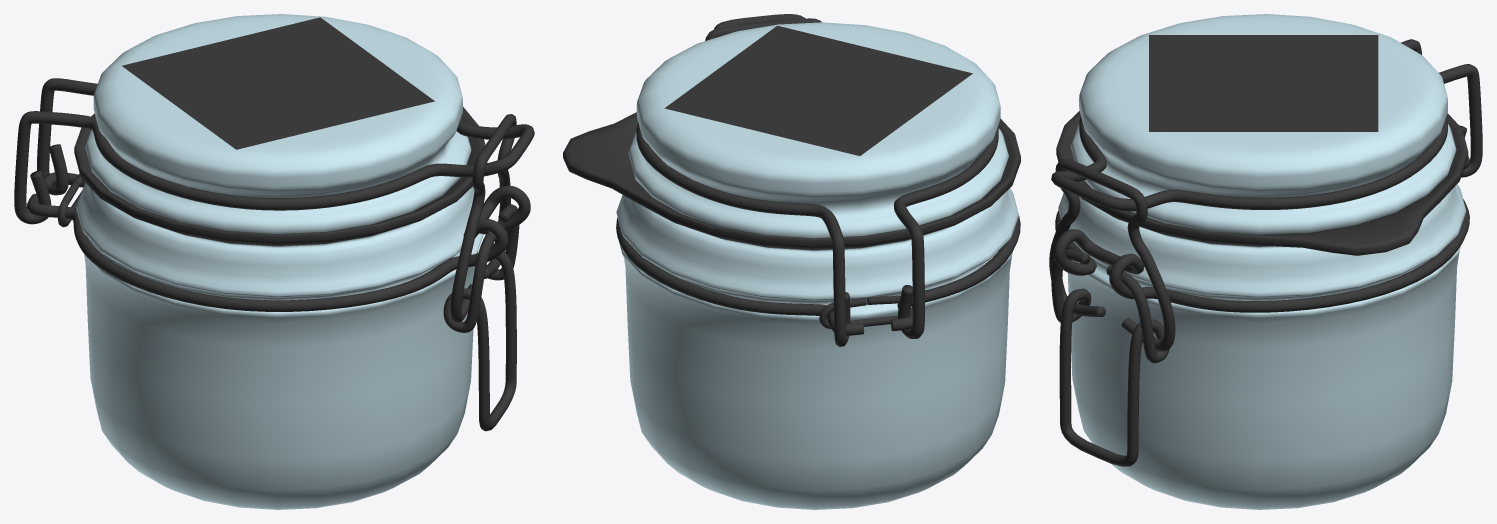
Rendered from VP_Kitchen_Jar_5_Body_VP_Jar_1.FBX.
3 views of the same model, side by side, from view 1: azimuth 30°, elevation 25°; view 2: azimuth 150°, elevation 25°; view 3: azimuth 270°, elevation 25° (orthographic).
Visible parts, largest first — view 1: VP_Kitchen_Jar_5_Body_VP_Jar_1; view 2: VP_Kitchen_Jar_5_Body_VP_Jar_1; view 3: VP_Kitchen_Jar_5_Body_VP_Jar_1.
Boxes of the visible parts, x1=… form: VP_Kitchen_Jar_5_Body_VP_Jar_1: x1=14, y1=14, x2=534, y2=509; VP_Kitchen_Jar_5_Body_VP_Jar_1: x1=563, y1=14, x2=1020, y2=509; VP_Kitchen_Jar_5_Body_VP_Jar_1: x1=1049, y1=14, x2=1482, y2=509.
Size of what is drawn, in the model's own units: 14.82 by 14.26 by 13.31.
